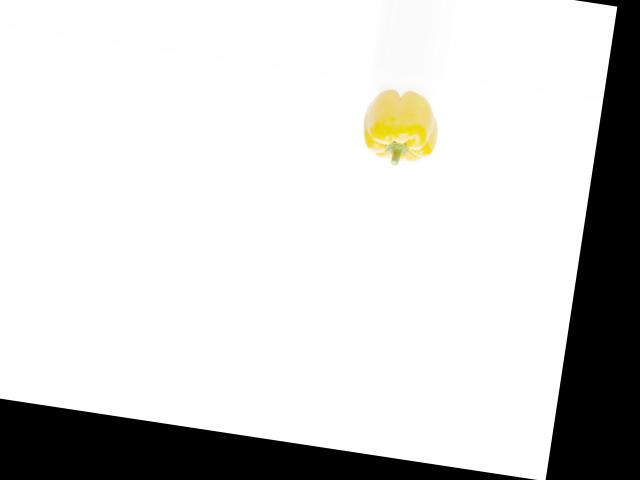bell_pepper: (358, 83, 448, 174)
